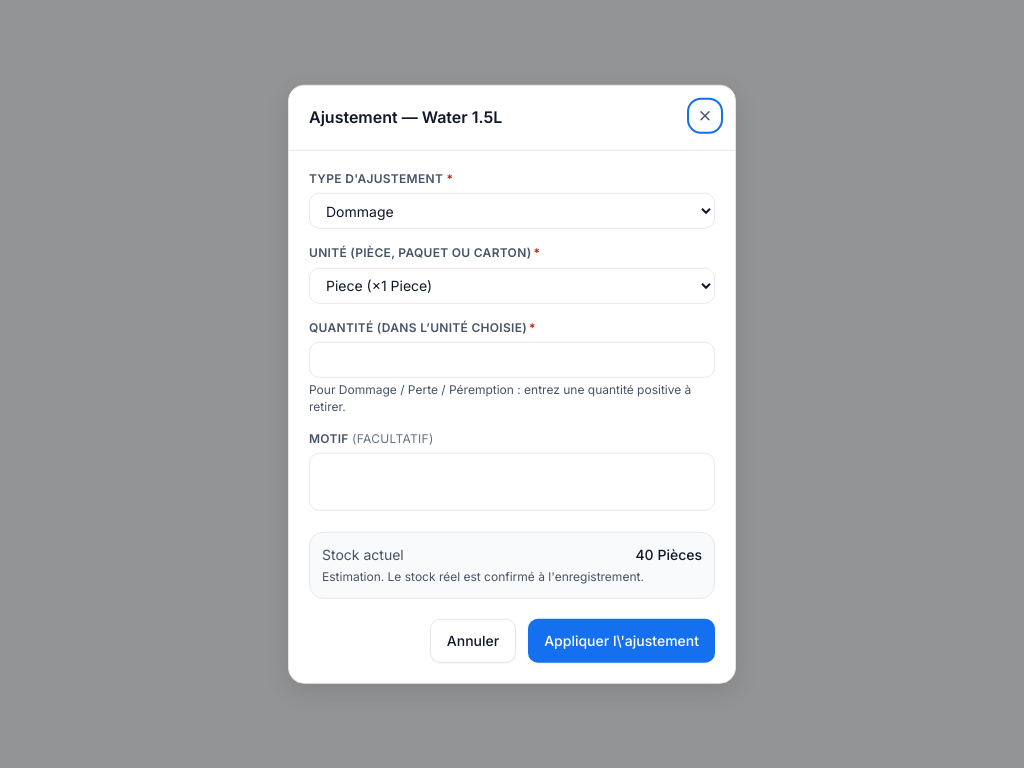
Test: AdjustmentModal mutation error path › renders mapped ADJUSTMENT_NEGATIVE_RESULT after RPC error
Type "5" into the number field at (512, 360), box [309,342,715,378]
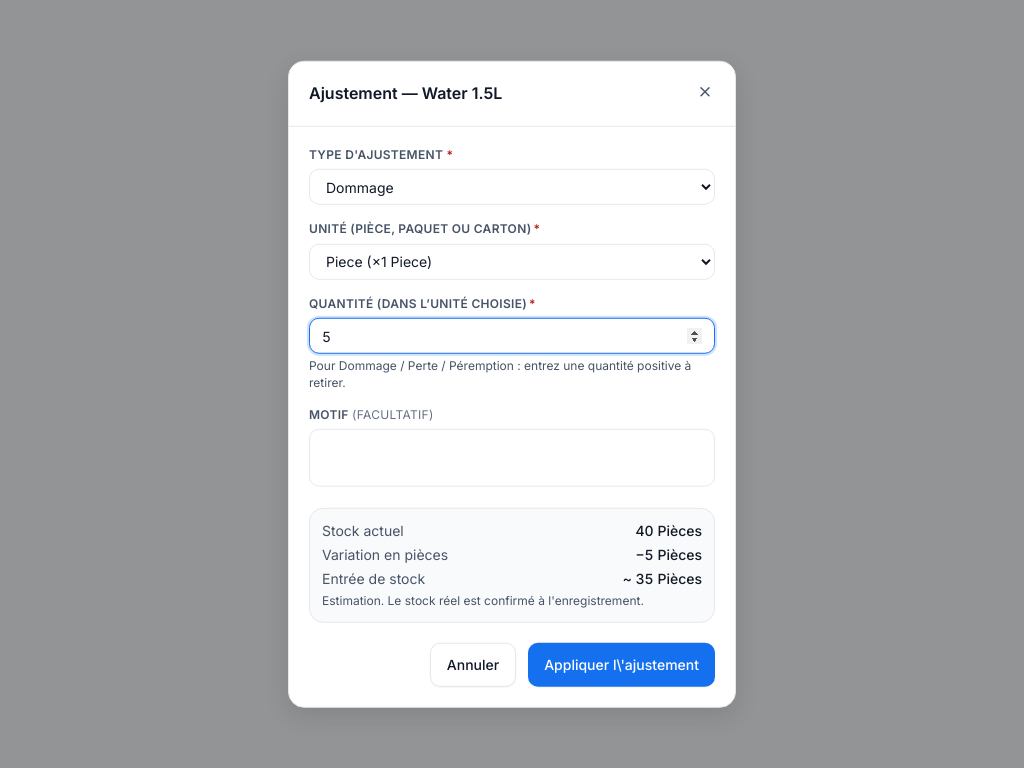
Click the button "Appliquer l\\'ajustement" at (622, 664), box [528,642,715,686]
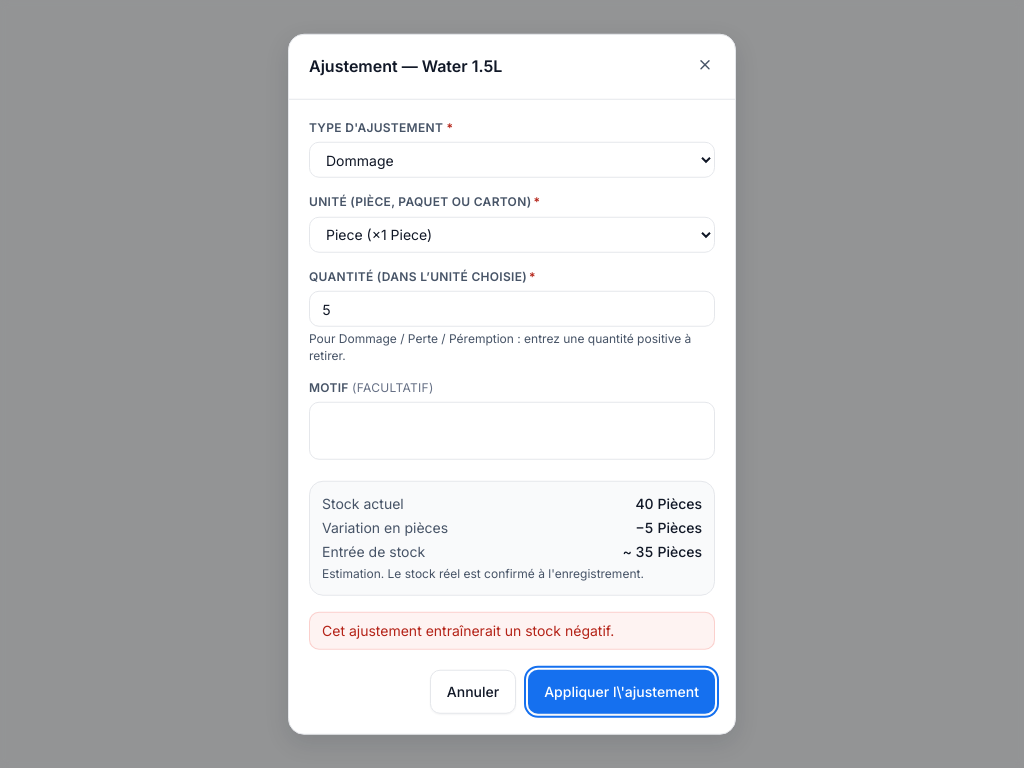
Expected: the text "Cet ajustement entraînerait un stock négatif." is shown, [322,621,614,638]
